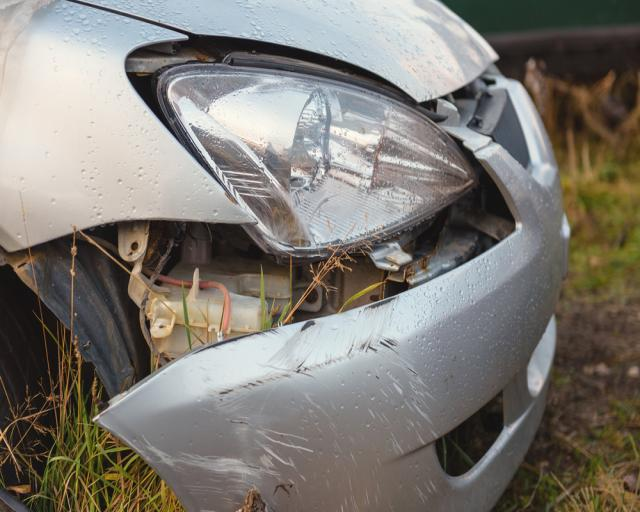scratch: (147, 294, 435, 512)
